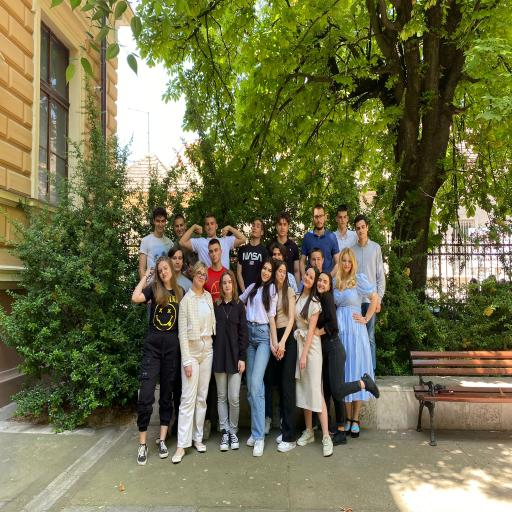marija: (303, 268, 313, 293)
masa: (279, 266, 287, 286)
